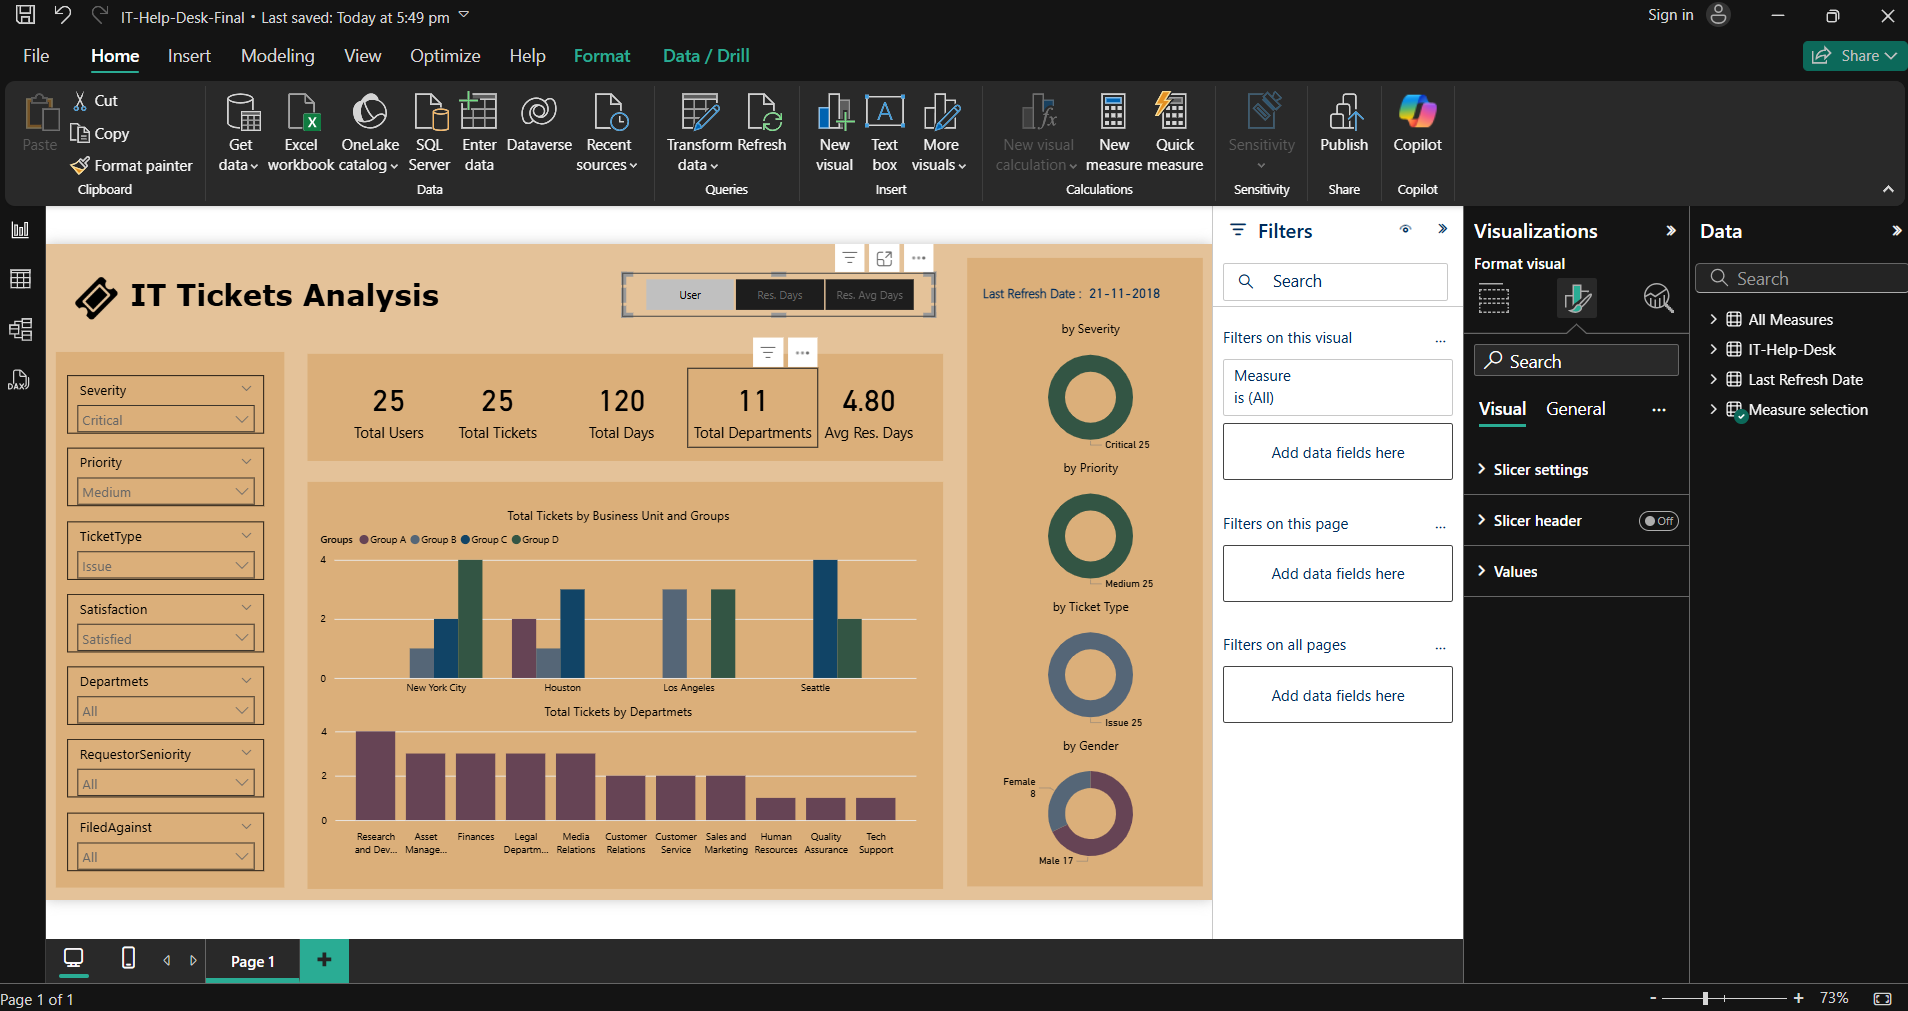

Layout of this report page (visuals, bound fields, positions):
{"tool":"powerbi","page":{"name":"Page 1","canvas":[1280,720],"ordinal":0},"visuals":[{"type":"basicShape","box":[8,112,256,600],"z":0},{"type":"textbox","box":[88,32,368,56],"z":1000},{"type":"basicShape","box":[280,120,712,120],"z":2000},{"type":"basicShape","box":[1008,8,264,704],"z":3000},{"type":"basicShape","box":[280,256,712,456],"z":4000},{"type":"donutChart","title":"by Severity","fields":{"Y":["All Measures.Measure logic"],"Category":["IT-Help-Desk.Severity"]},"box":[1042.3,84.3,208,152],"z":5000},{"type":"donutChart","title":"by Priority","fields":{"Y":["All Measures.Measure logic"],"Category":["IT-Help-Desk.Priority"]},"box":[1042.3,236.3,208,152],"z":6000},{"type":"donutChart","title":"by Ticket Type","fields":{"Y":["All Measures.Measure logic"],"Category":["IT-Help-Desk.TicketType"]},"box":[1042.3,388.3,208,152],"z":7000},{"type":"donutChart","title":"by Gender","fields":{"Y":["All Measures.Measure logic"],"Category":["IT-Help-Desk.Gender"]},"box":[1042.3,540.3,208,152],"z":8000},{"type":"clusteredColumnChart","fields":{"Category":["IT-Help-Desk.Business Unit"],"Series":["IT-Help-Desk.Groups"],"Y":["All Measures.Total Tickets"]},"box":[296,288,664,216],"z":9000},{"type":"lineClusteredColumnComboChart","fields":{"Y":["All Measures.Total Tickets"],"Category":["IT-Help-Desk.Departmets"]},"box":[296,504,664,176],"z":10000},{"type":"image","box":[24,32,64,56],"z":11000},{"type":"card","fields":{"Values":["All Measures.Total Users"]},"box":[304,136,144,88],"z":12000},{"type":"card","fields":{"Values":["All Measures.Total Days"]},"box":[560,136,144,88],"z":13000},{"type":"card","fields":{"Values":["All Measures.Avg Res. Days"]},"box":[832,136,144,88],"z":14000},{"type":"card","fields":{"Values":["All Measures.Total Departments"]},"box":[704,136,144,88],"z":15000},{"type":"card","fields":{"Values":["All Measures.Total Tickets"]},"box":[424,136,144,88],"z":16000},{"type":"card","fields":{"Values":["Min(Last Refresh Date.LastRefresh)"]},"box":[1136,32,96,48],"z":17000},{"type":"textbox","box":[1024,40,128,32],"z":18000},{"type":"slicer","fields":{"Values":["IT-Help-Desk.Severity"]},"box":[24,144,216,64],"z":19000},{"type":"slicer","fields":{"Values":["IT-Help-Desk.Priority"]},"box":[24,224,216,64],"z":20000},{"type":"slicer","fields":{"Values":["IT-Help-Desk.TicketType"]},"box":[24,304,216,64],"z":21000},{"type":"slicer","fields":{"Values":["IT-Help-Desk.Satisfaction"]},"box":[24,384,216,64],"z":22000},{"type":"slicer","fields":{"Values":["IT-Help-Desk.Departmets"]},"box":[24,464,216,64],"z":23000},{"type":"slicer","fields":{"Values":["IT-Help-Desk.RequestorSeniority"]},"box":[24,544,216,64],"z":24000},{"type":"slicer","fields":{"Values":["IT-Help-Desk.FiledAgainst"]},"box":[24,624,216,64],"z":25000},{"type":"slicer","fields":{"Values":["Measure selection.Measure"]},"box":[632,32,344,48],"z":26000}]}

Visuals, with their boxes on the page's 1280x720 design canvas (x1, y1, x2, y2). These are canvas units, not pixel positions in the 1908x1011 screenshot, which may show the page scaled, cropped or inside an application window:
basicShape: (x1=8, y1=112, x2=264, y2=712)
textbox: (x1=88, y1=32, x2=456, y2=88)
basicShape: (x1=280, y1=120, x2=992, y2=240)
basicShape: (x1=1008, y1=8, x2=1272, y2=712)
basicShape: (x1=280, y1=256, x2=992, y2=712)
"by Severity" donutChart: (x1=1042, y1=84, x2=1250, y2=236)
"by Priority" donutChart: (x1=1042, y1=236, x2=1250, y2=388)
"by Ticket Type" donutChart: (x1=1042, y1=388, x2=1250, y2=540)
"by Gender" donutChart: (x1=1042, y1=540, x2=1250, y2=692)
clusteredColumnChart - IT-Help-Desk.Business Unit x IT-Help-Desk.Groups: (x1=296, y1=288, x2=960, y2=504)
lineClusteredColumnComboChart - All Measures.Total Tickets x IT-Help-Desk.Departmets: (x1=296, y1=504, x2=960, y2=680)
image: (x1=24, y1=32, x2=88, y2=88)
card - All Measures.Total Users: (x1=304, y1=136, x2=448, y2=224)
card - All Measures.Total Days: (x1=560, y1=136, x2=704, y2=224)
card - All Measures.Avg Res. Days: (x1=832, y1=136, x2=976, y2=224)
card - All Measures.Total Departments: (x1=704, y1=136, x2=848, y2=224)
card - All Measures.Total Tickets: (x1=424, y1=136, x2=568, y2=224)
card - Min(Last Refresh Date.LastRefresh): (x1=1136, y1=32, x2=1232, y2=80)
textbox: (x1=1024, y1=40, x2=1152, y2=72)
slicer - IT-Help-Desk.Severity: (x1=24, y1=144, x2=240, y2=208)
slicer - IT-Help-Desk.Priority: (x1=24, y1=224, x2=240, y2=288)
slicer - IT-Help-Desk.TicketType: (x1=24, y1=304, x2=240, y2=368)
slicer - IT-Help-Desk.Satisfaction: (x1=24, y1=384, x2=240, y2=448)
slicer - IT-Help-Desk.Departmets: (x1=24, y1=464, x2=240, y2=528)
slicer - IT-Help-Desk.RequestorSeniority: (x1=24, y1=544, x2=240, y2=608)
slicer - IT-Help-Desk.FiledAgainst: (x1=24, y1=624, x2=240, y2=688)
slicer - Measure selection.Measure: (x1=632, y1=32, x2=976, y2=80)
